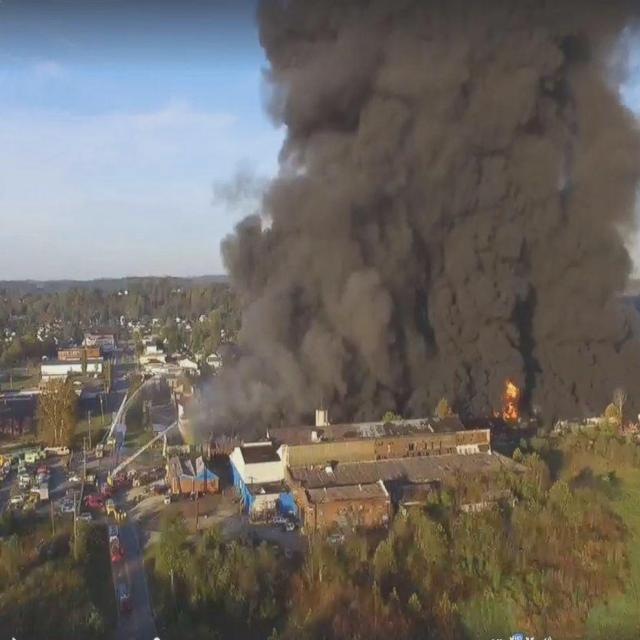Fire: (492, 373, 527, 425)
